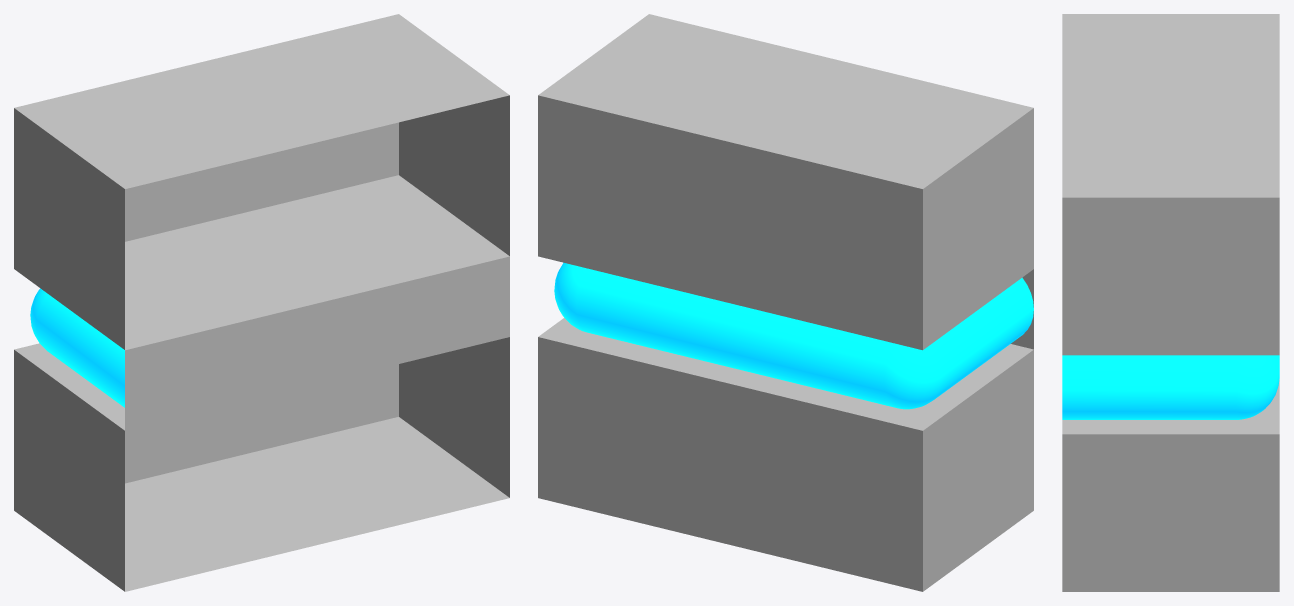
The model's file is PaddleLeft.fbx.
3 views of the same model, side by side, from view 1: azimuth 30°, elevation 25°; view 2: azimuth 150°, elevation 25°; view 3: azimuth 270°, elevation 25° (orthographic). The views are drawn at different scales.
Visible parts, largest first — view 1: LeftEdge, LeftEdgeCenter; view 2: LeftEdge, LeftEdgeCenter; view 3: LeftEdge, LeftEdgeCenter.
Boxes of the visible parts, x1,y1,x2,y2 form: LeftEdge: [14, 14, 509, 591]; LeftEdgeCenter: [30, 288, 124, 407]; LeftEdge: [538, 14, 1033, 591]; LeftEdgeCenter: [554, 262, 1033, 409]; LeftEdge: [1062, 14, 1279, 591]; LeftEdgeCenter: [1062, 355, 1279, 419].
Size of the model in its own units: 200 by 200 by 100.
